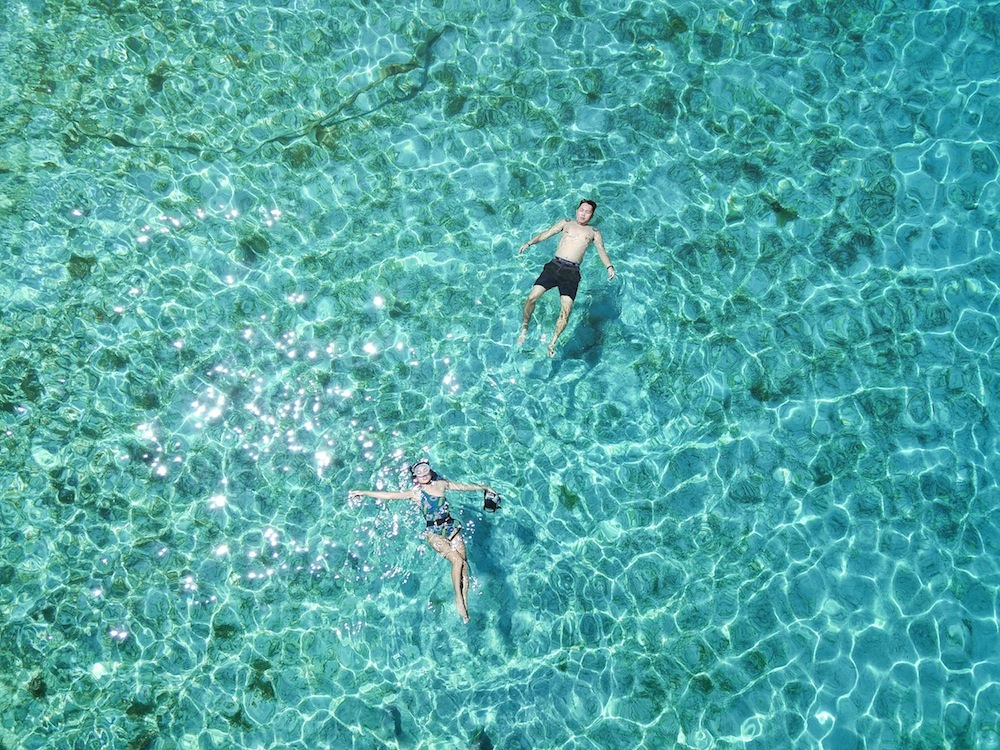people: (346, 460, 504, 624), (515, 195, 619, 358)
